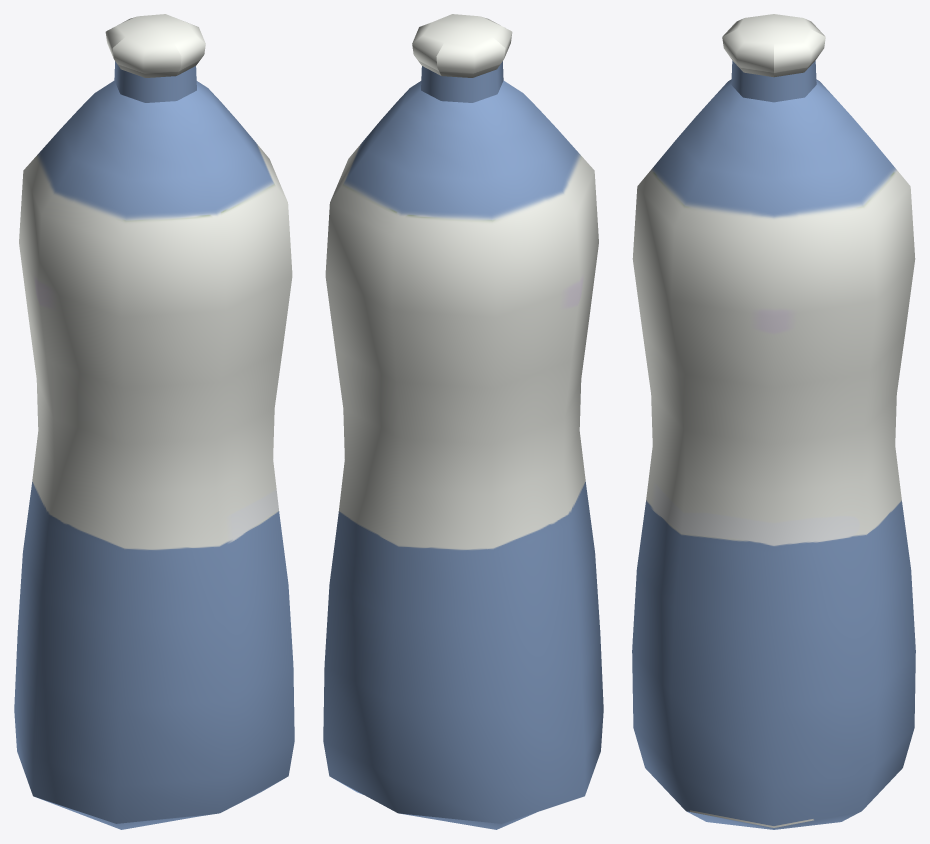
Rendered from Bottle.fbx.
3 views of the same model, side by side, from view 1: azimuth 30°, elevation 25°; view 2: azimuth 150°, elevation 25°; view 3: azimuth 270°, elevation 25° (orthographic).
Visible parts, largest first — view 1: Bottle; view 2: Bottle; view 3: Bottle.
Boxes of the visible parts, x1,y1,x2,y2 form: Bottle: (14, 14, 294, 829); Bottle: (323, 14, 603, 829); Bottle: (632, 14, 915, 829).
Size of the model in its own units: 0.4015 by 1.19 by 0.4005.
